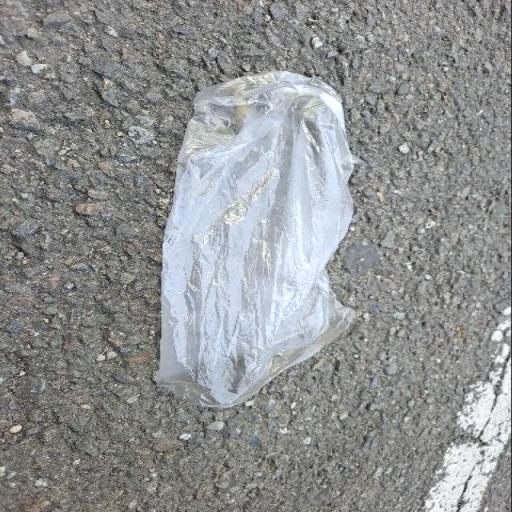polythene: (155, 70, 356, 408)
